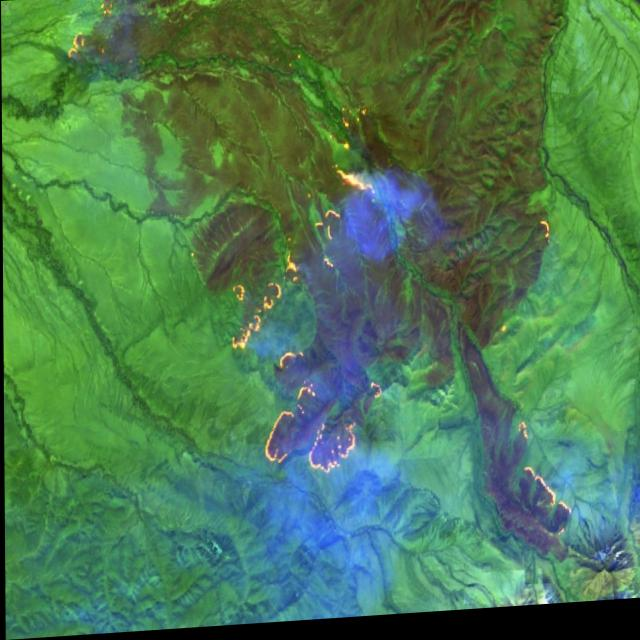fire: (222, 155, 390, 486), (501, 410, 575, 556), (62, 0, 122, 72)
